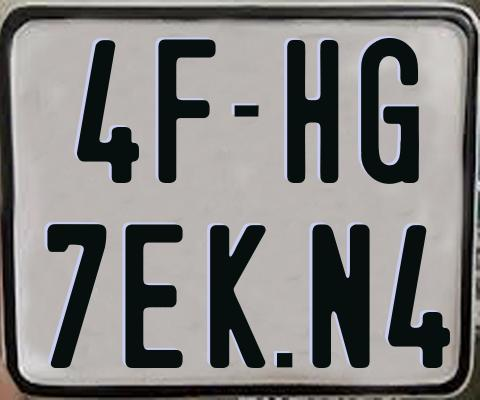4: (385, 222, 451, 366), (76, 39, 139, 186)
7: (47, 221, 111, 369)
E: (125, 222, 185, 369)
F: (155, 36, 219, 180)
G: (358, 37, 422, 187)
H: (284, 37, 337, 183)
K: (207, 224, 264, 367)
N: (311, 223, 373, 367)
